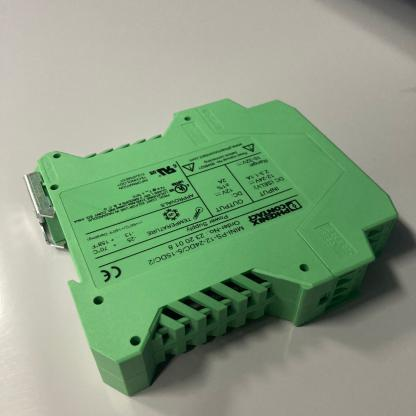SP0000011: (0, 75, 416, 416)
